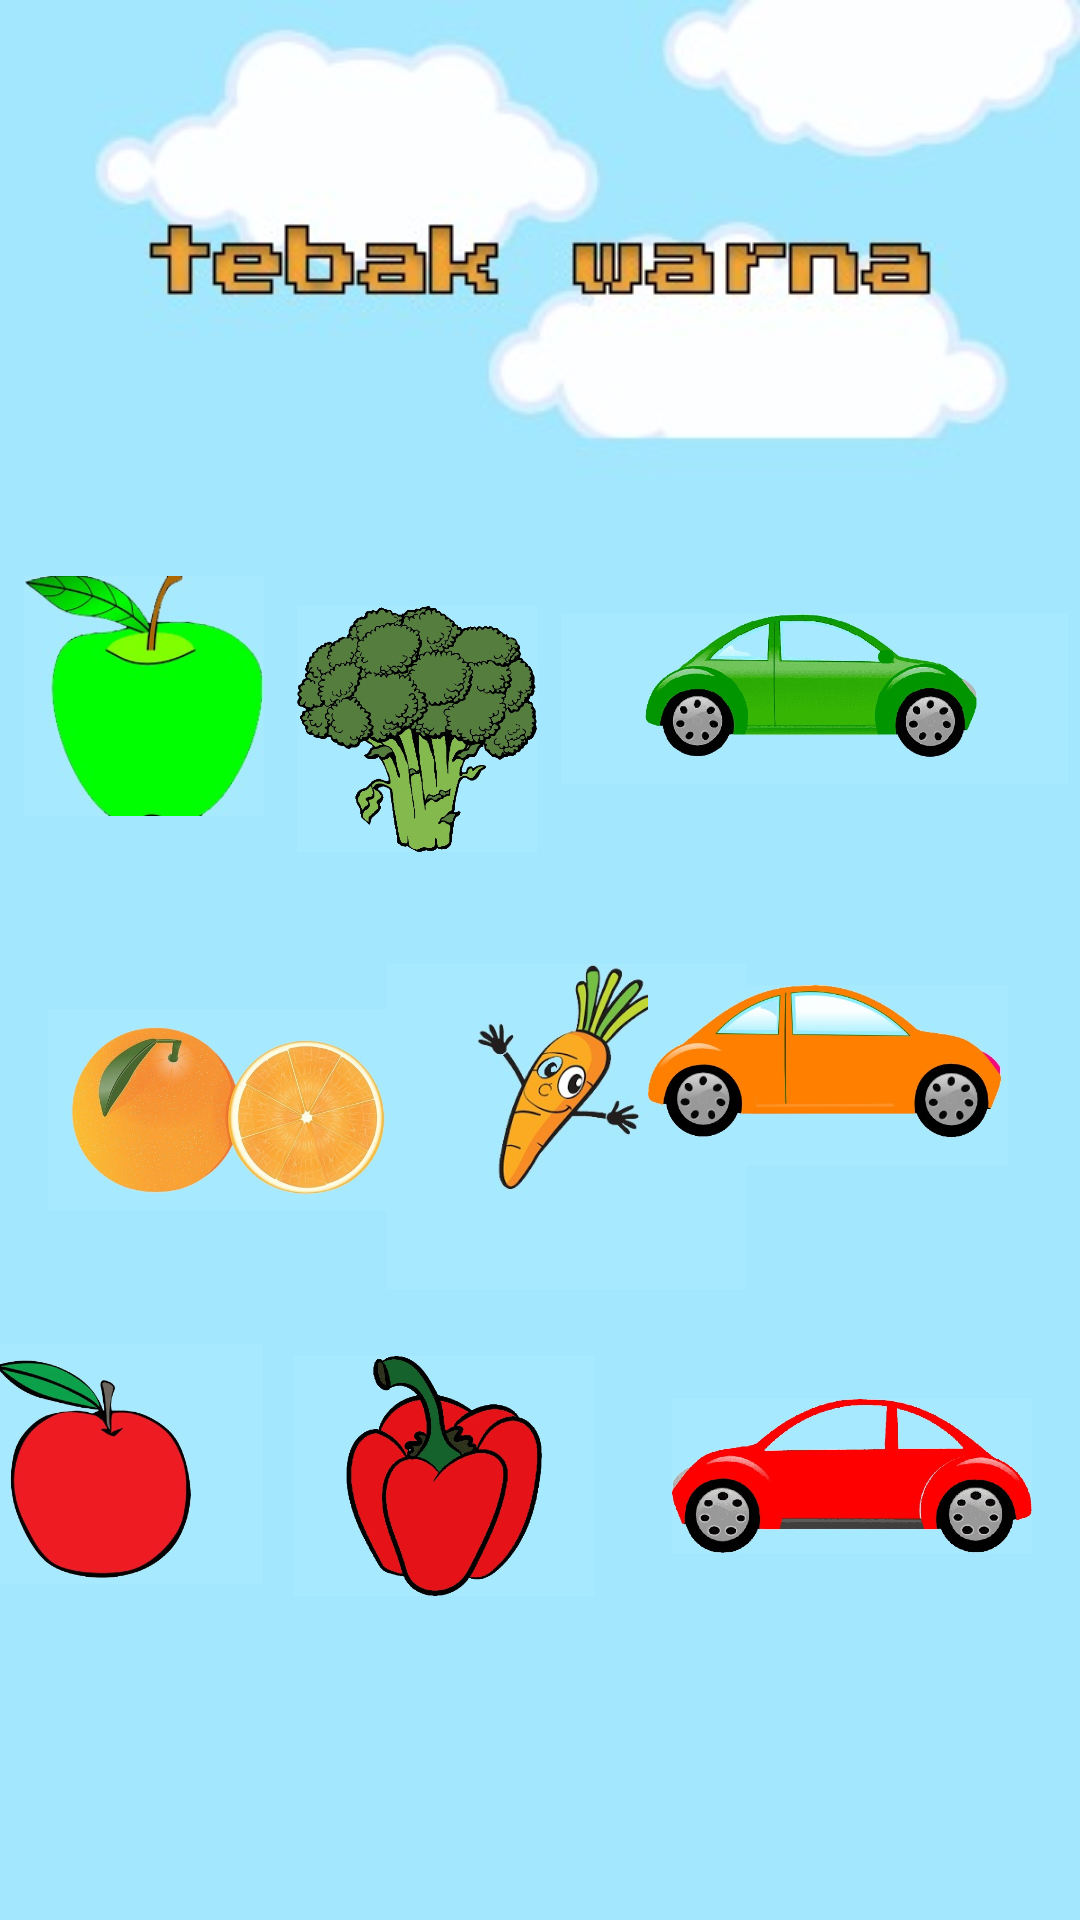

Icon bounding boxes for this 1080w x 1920h phone screenshot, format (x1, y1, x2, y2):
apelijo: (25, 576, 263, 816)
brokoli: (297, 606, 537, 852)
jeruk: (71, 1027, 385, 1194)
mobilijo: (645, 614, 977, 757)
mobilmerah: (672, 1399, 1032, 1553)
mobiloren: (648, 985, 1001, 1137)
paprika: (346, 1356, 542, 1596)
wortel: (478, 965, 648, 1189)
